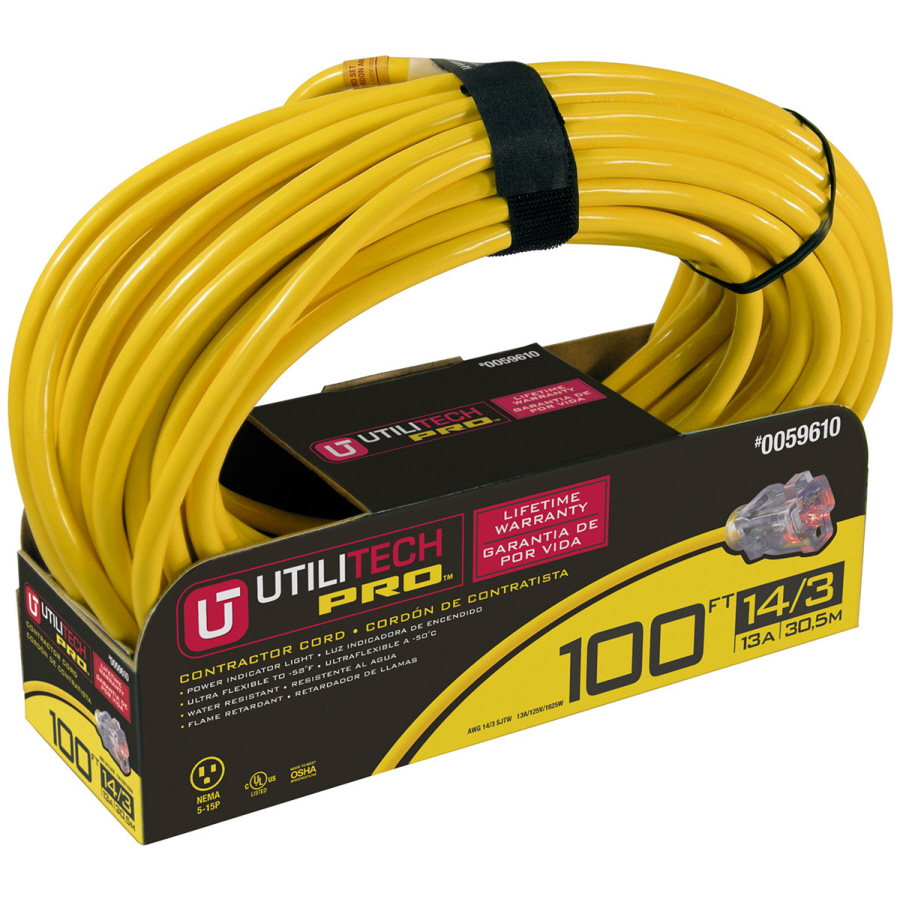Nonrec_Tangler: (20, 31, 881, 675)
